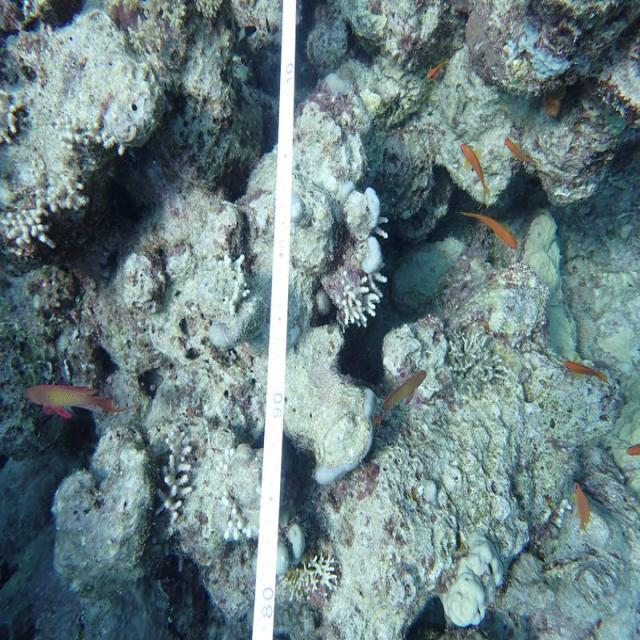Bleached Coral: (311, 165, 406, 278), (151, 412, 219, 548), (326, 255, 389, 347), (286, 533, 349, 609), (506, 31, 580, 77), (4, 208, 53, 249)
